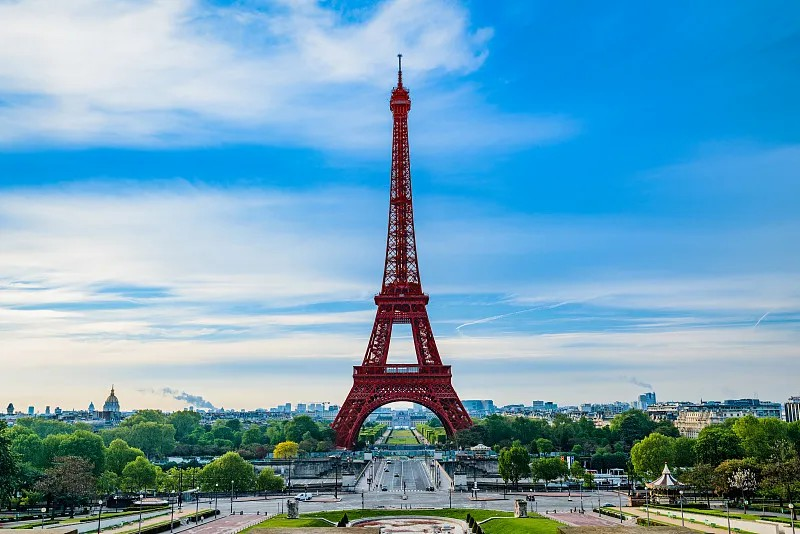Eiffel: (329, 51, 476, 448)
